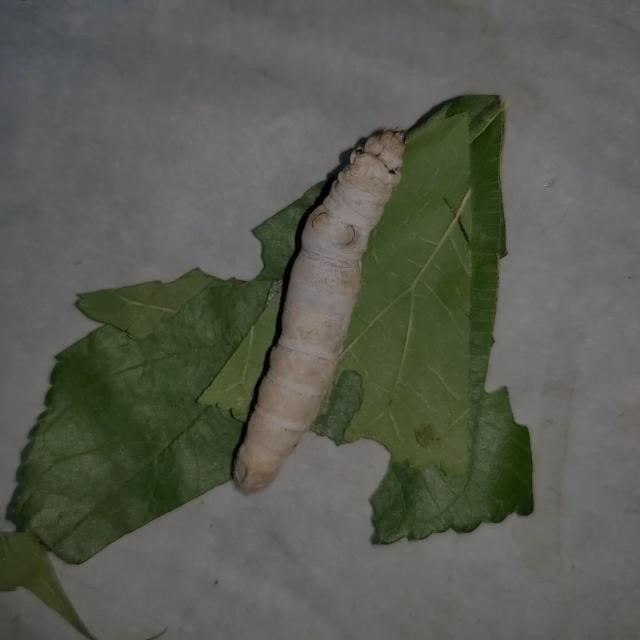Grasserie: (223, 100, 422, 518)
